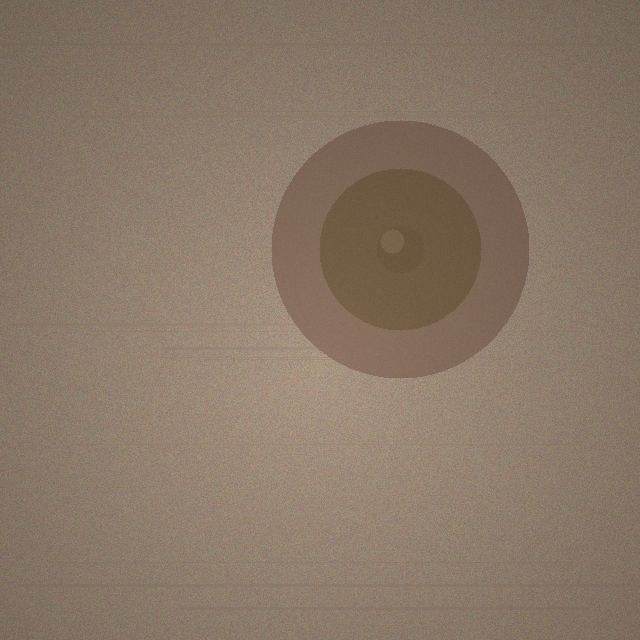good: (271, 120, 529, 378)
